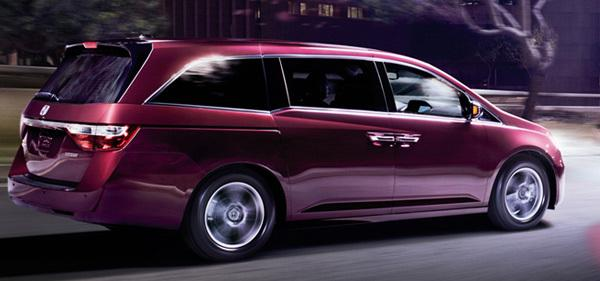car: (5, 19, 597, 271)
